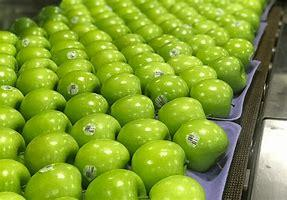apple: (133, 140, 192, 193), (118, 117, 188, 157), (27, 164, 92, 200), (178, 124, 229, 165), (87, 168, 151, 200), (28, 134, 84, 170), (194, 80, 240, 121), (76, 139, 133, 171), (6, 48, 52, 84), (147, 76, 194, 110), (1, 157, 38, 200), (20, 110, 73, 139), (61, 88, 107, 120), (166, 96, 208, 130), (73, 116, 118, 147), (17, 87, 65, 116), (113, 94, 155, 126), (51, 72, 100, 99), (101, 76, 145, 106), (16, 57, 66, 83), (153, 176, 207, 200), (0, 126, 37, 160), (190, 30, 230, 60), (97, 58, 140, 85), (208, 55, 245, 83), (16, 69, 58, 93), (138, 60, 178, 85), (222, 39, 259, 66), (57, 56, 95, 80), (199, 45, 230, 72), (156, 30, 194, 52), (0, 106, 26, 138), (171, 55, 208, 77), (209, 25, 242, 48), (89, 51, 127, 70), (0, 83, 21, 117), (232, 16, 261, 40), (184, 65, 214, 88), (164, 39, 197, 59), (131, 42, 160, 63), (58, 45, 86, 64)
